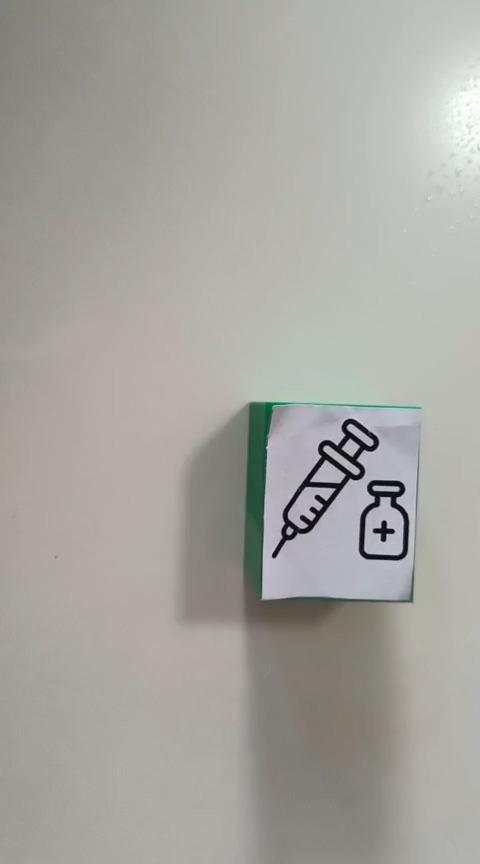antiseptic cream: (244, 400, 422, 602)
